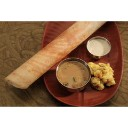dosa: (1, 20, 109, 92)
